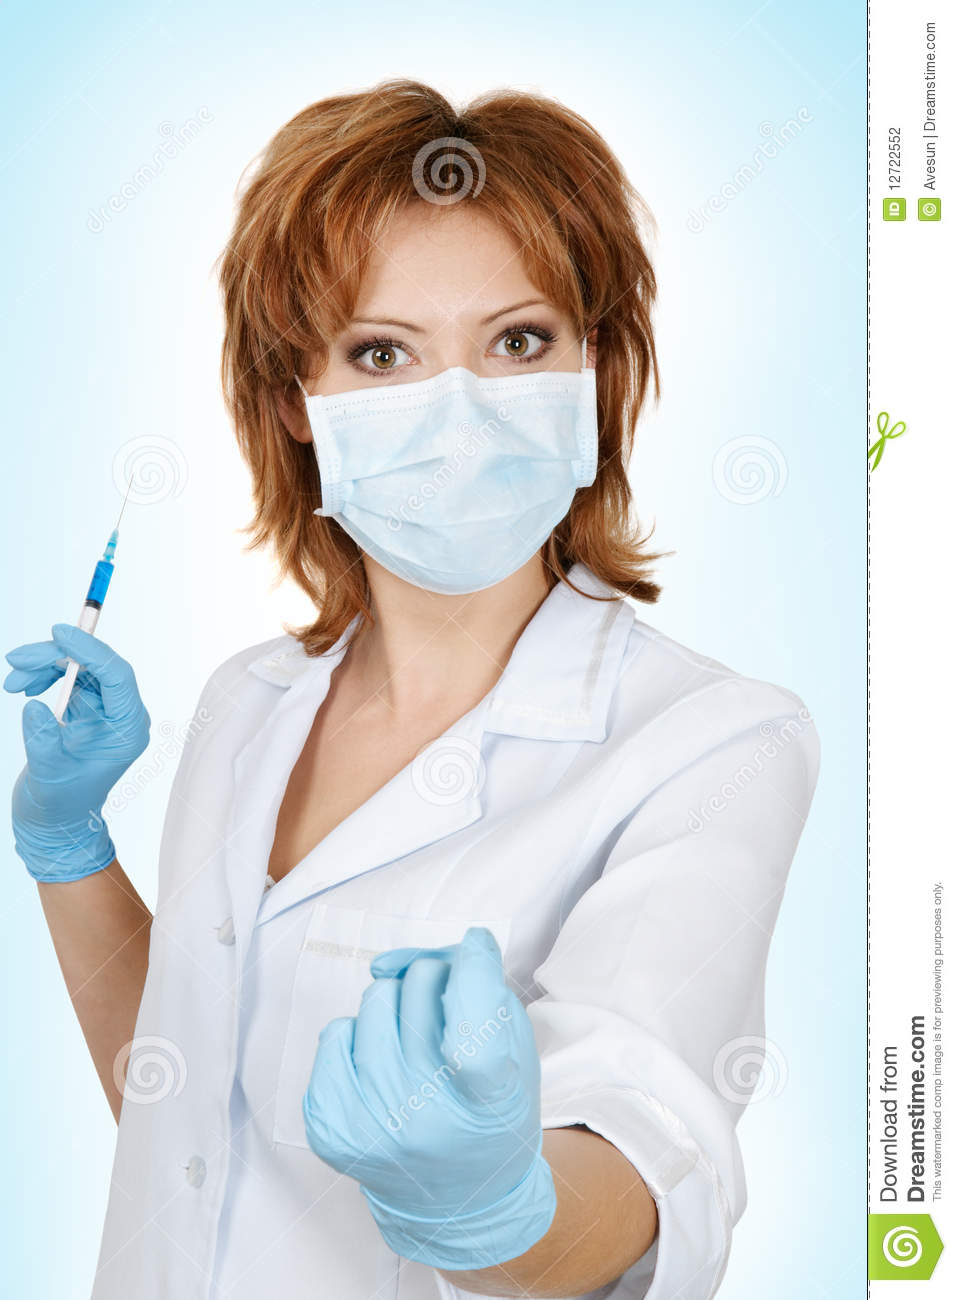mask: (314, 381, 606, 579)
